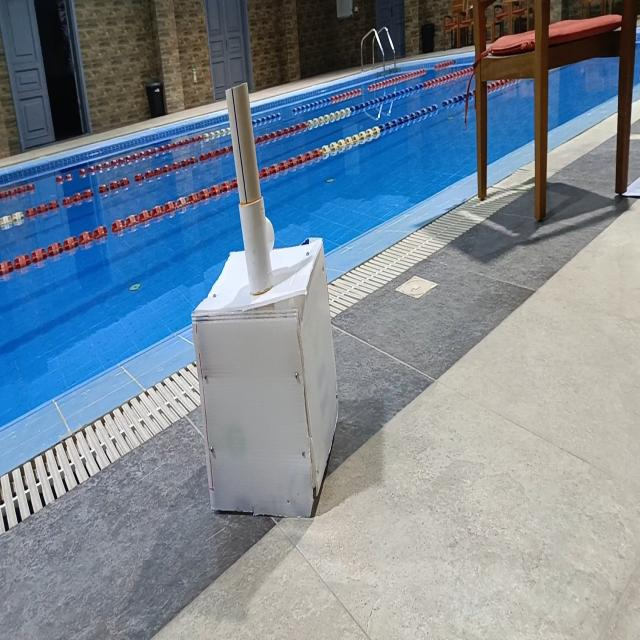Cube: (190, 235, 340, 519)
